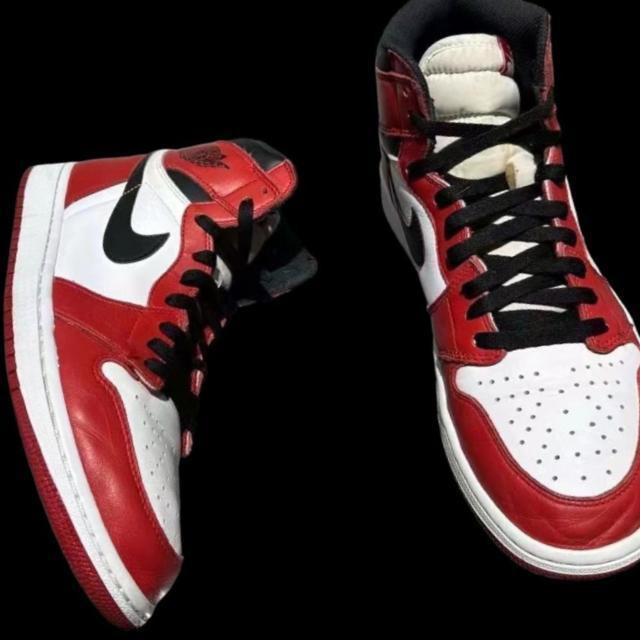nike original jordan 1: (0, 93, 393, 640), (299, 0, 640, 616)
